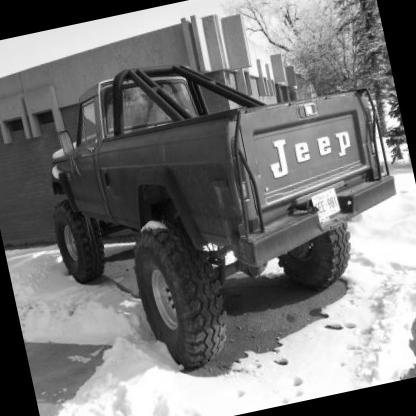truck: (13, 11, 416, 405)
